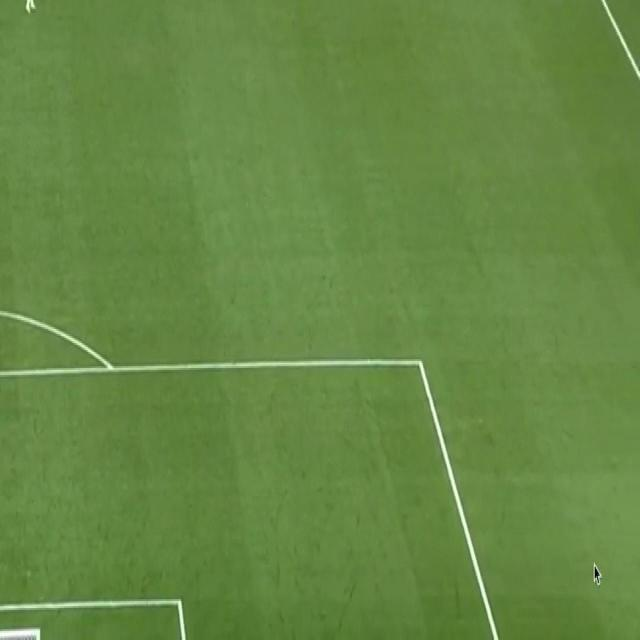player-white: (22, 0, 39, 14)
